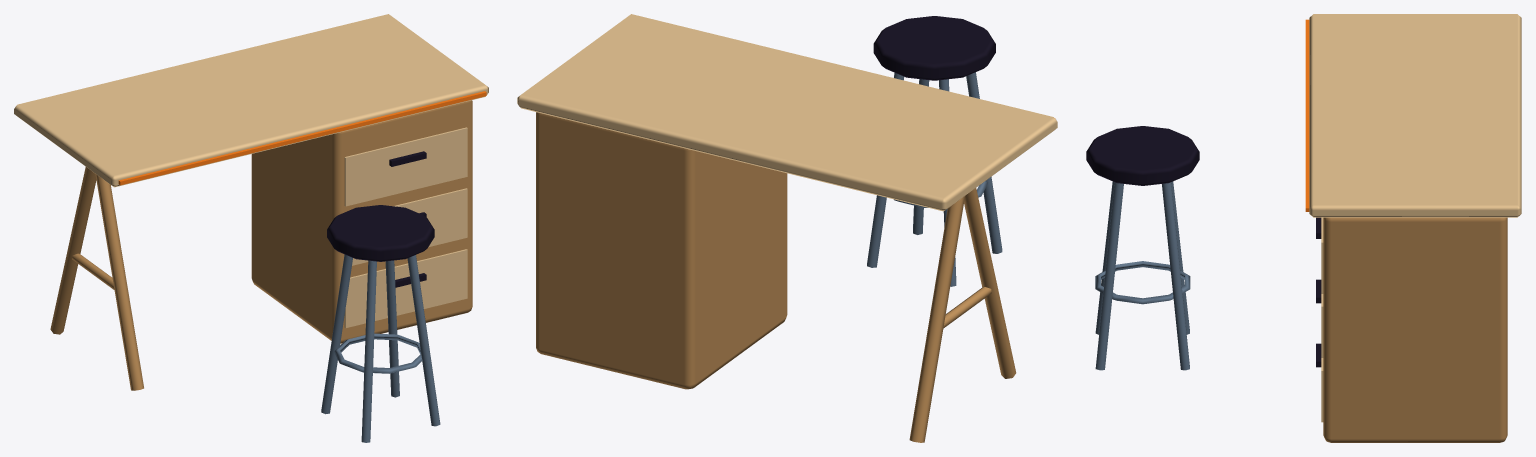
The model's file is station_intake_basis.glb.
3 renders of one model, left to right at view 1: azimuth 30°, elevation 25°; view 2: azimuth 150°, elevation 25°; view 3: azimuth 270°, elevation 25°, orthographic. The views are drawn at different scales.
Visible parts, largest first — view 1: station_intake_basis; view 2: station_intake_basis; view 3: station_intake_basis.
Part boxes in pixels (left/top/right/bottom): station_intake_basis: left=14, top=14, right=488, bottom=442; station_intake_basis: left=517, top=14, right=1057, bottom=442; station_intake_basis: left=1086, top=14, right=1521, bottom=442.
Bounding box in the file's own units: 1.3 × 0.76 × 1.23.
